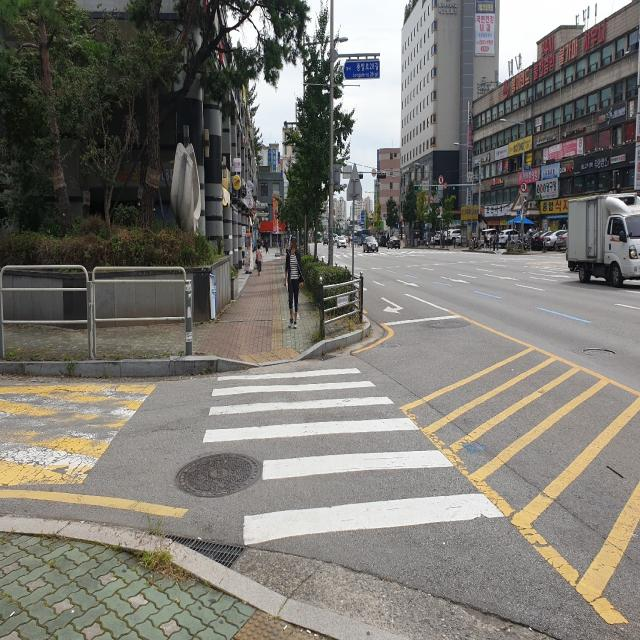횡단보도: (202, 366, 508, 550)
